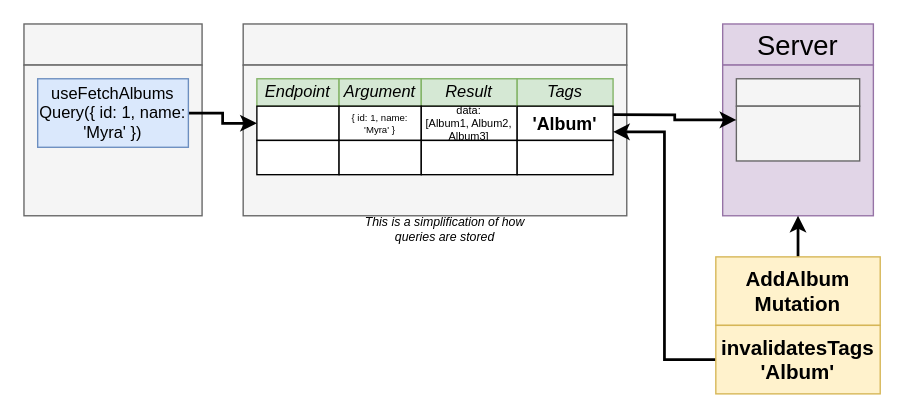
Some shapes in this 904 by 418 pixel diagram are drawn without their labels. The shapes that lost their labels are listed below. From the top down, each one's centre as x and y in pixels, then its label:
At point 112,44: "AlbumsList".
At point 434,44: "Store".
At point 797,91: "Albums for Myra".
At point 297,122: "fetchAlbums".
At point 797,133: "[Album1, Album2, Album3]".
